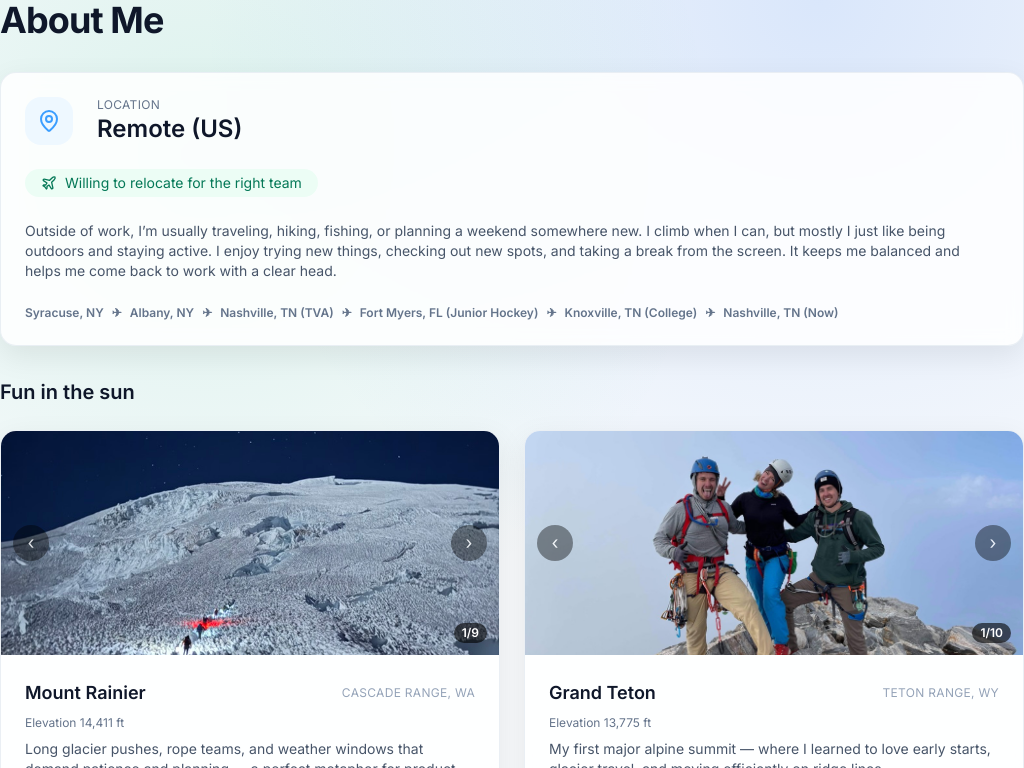
Test: AboutMe page › closes the modal when clicking the backdrop
Click the button named "Expand Mount Rainier photo 1".
click(250, 543)  # box 1,431 -> 499,655
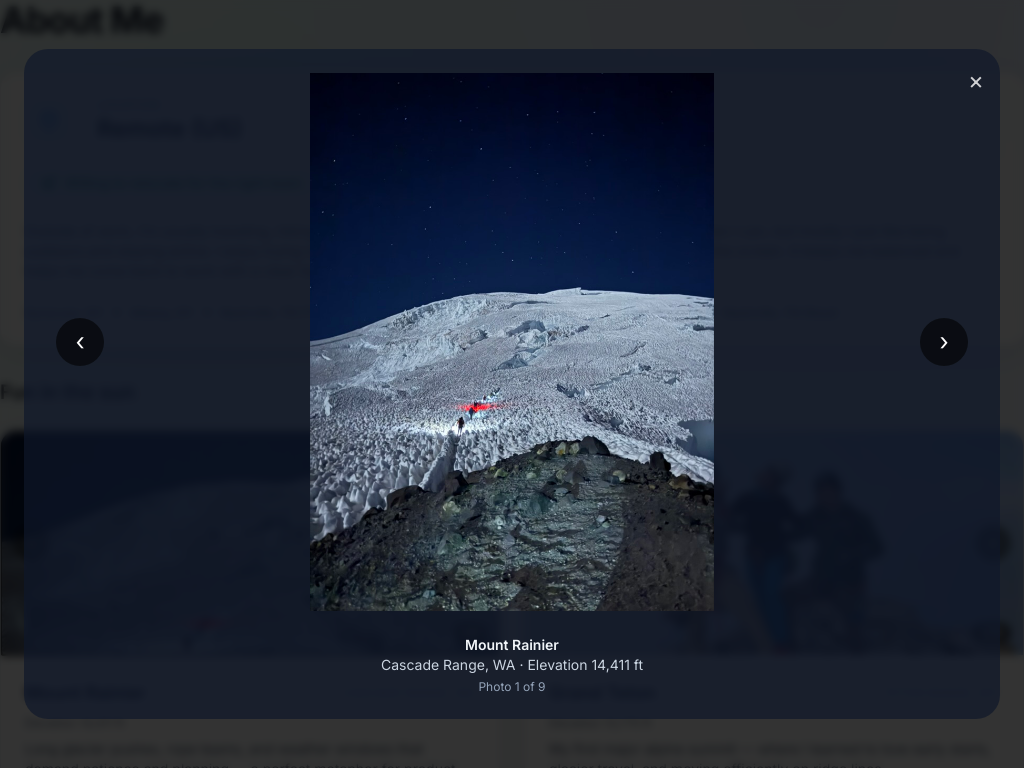
Click the dialog.
click(512, 722)  # box 0,0 -> 1023,767
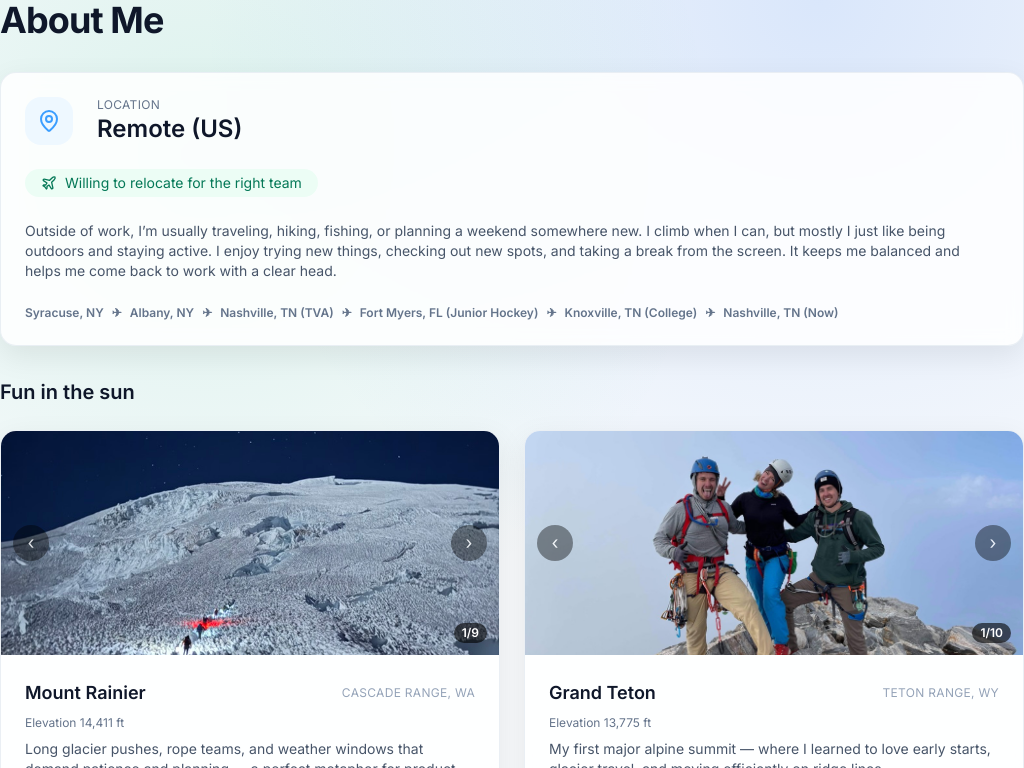
Check: the dialog is gone
